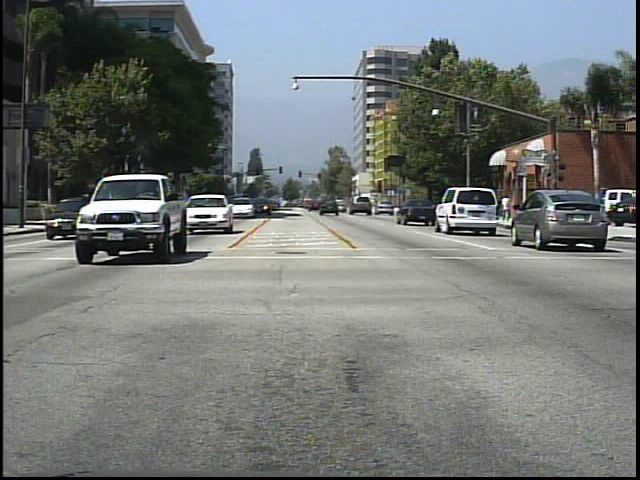person: (495, 189, 515, 228), (457, 192, 474, 227)
